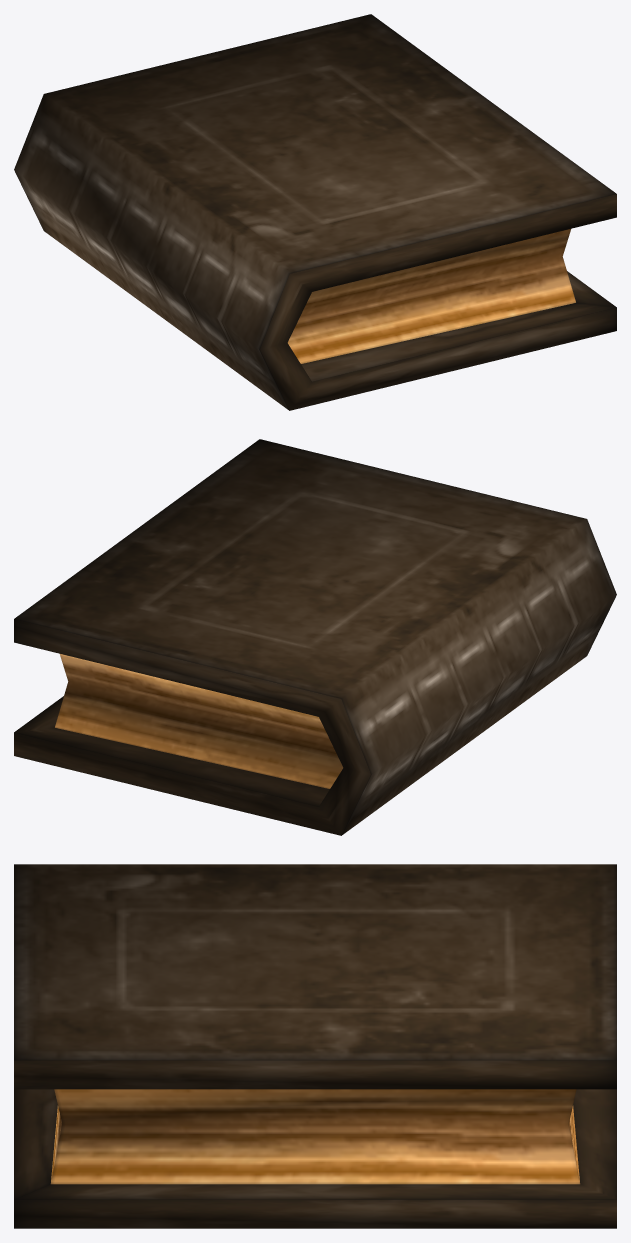
Rendered from Book0.fbx.
3 renders of one model, top to bottom at view 1: azimuth 30°, elevation 25°; view 2: azimuth 150°, elevation 25°; view 3: azimuth 270°, elevation 25°, orthographic. The views are drawn at different scales.
Parts seen in each view (by area): view 1: Cube; view 2: Cube; view 3: Cube.
Boxes of the visible parts, x1,y1,x2,y2 form: Cube: [14, 14, 616, 410]; Cube: [14, 439, 616, 835]; Cube: [14, 864, 616, 1228].
Bounding box in the file's own units: 218 × 80 × 260.
